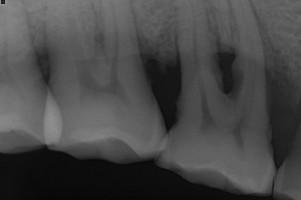Endo-Periodontal Lesion: (218, 52, 234, 91)
